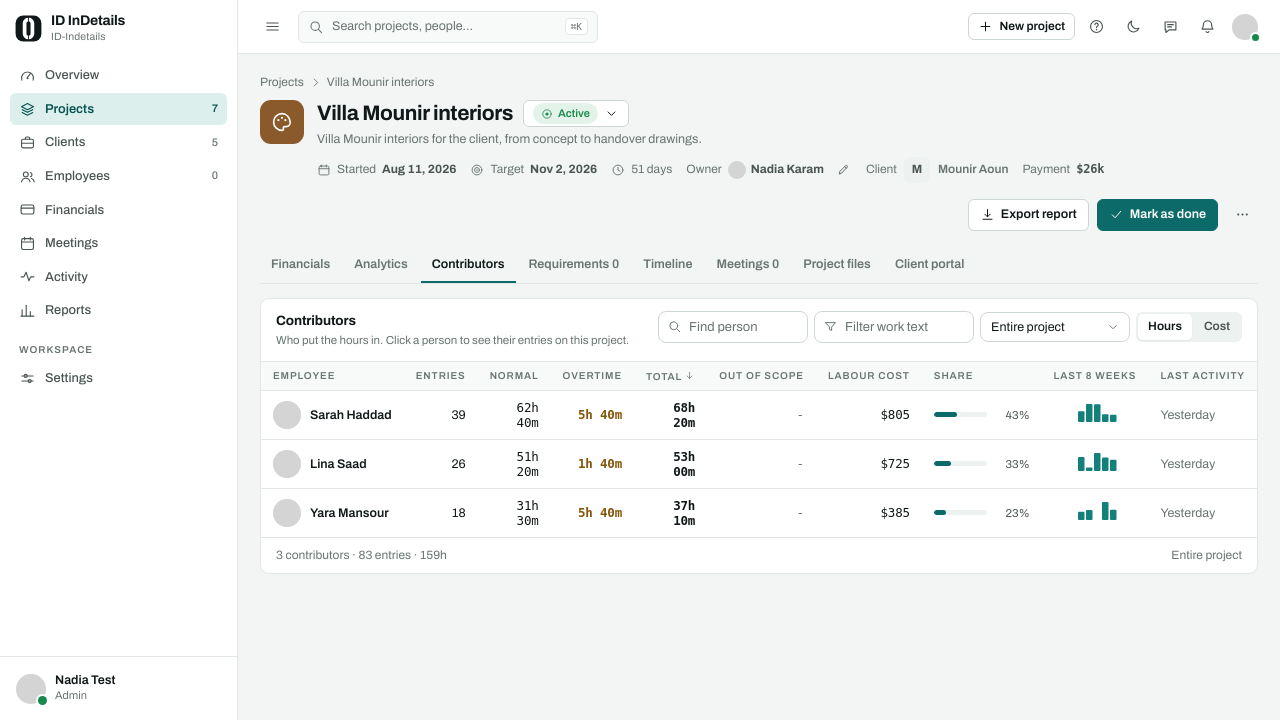
Test case: a contributor and their entries › shows the comments without the box to someone without work_entry:comment
The width and height of the screenshot is (1280, 720).
Click the text "62h 40m" at (514, 415), box x1=478 y1=391 x2=551 y2=440
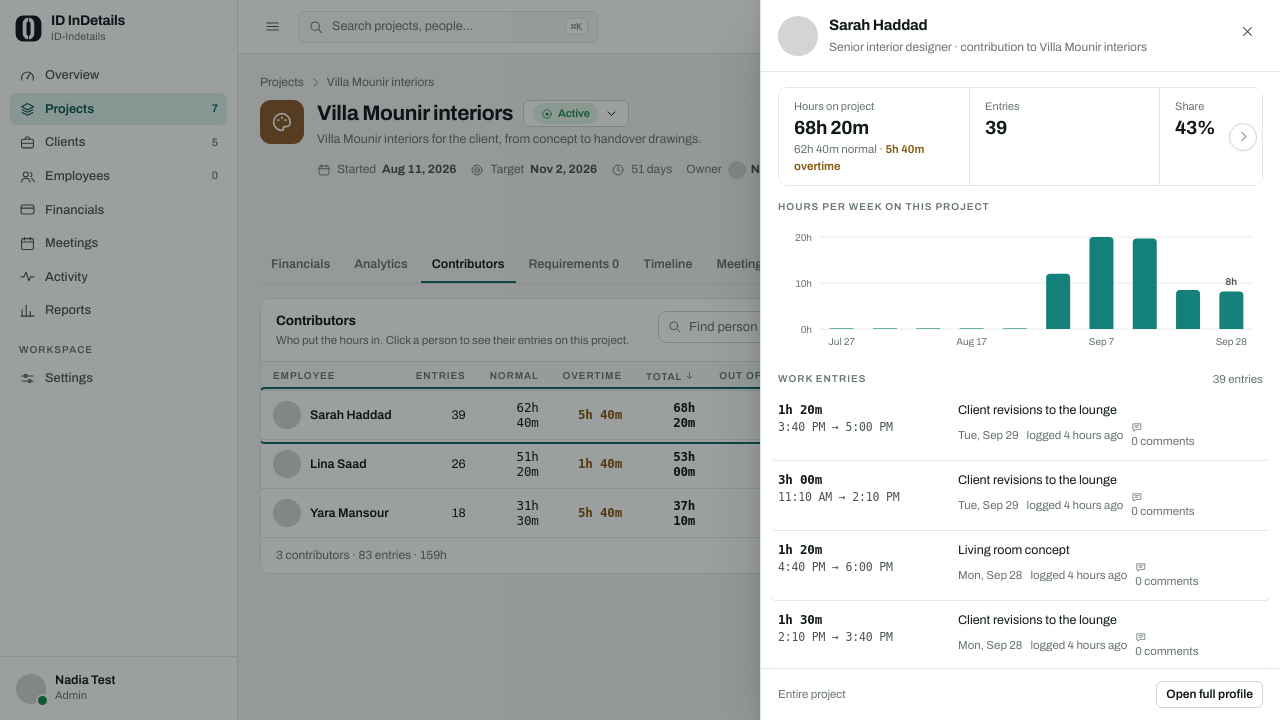
Click the 1st text "Client revisions to the lounge" at (1037, 410), box x1=958 y1=403 x2=1117 y2=417
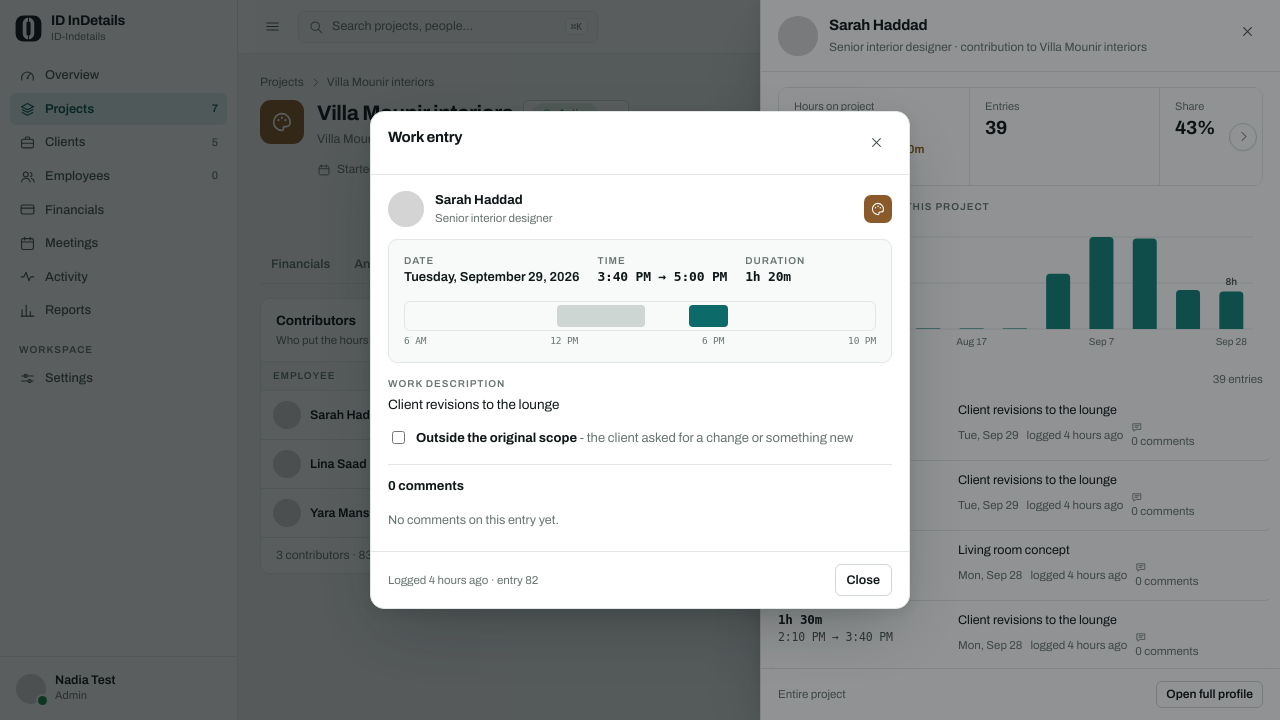
Expected: the text "No comments on this entry yet." is shown, x1=388 y1=513 x2=559 y2=527
